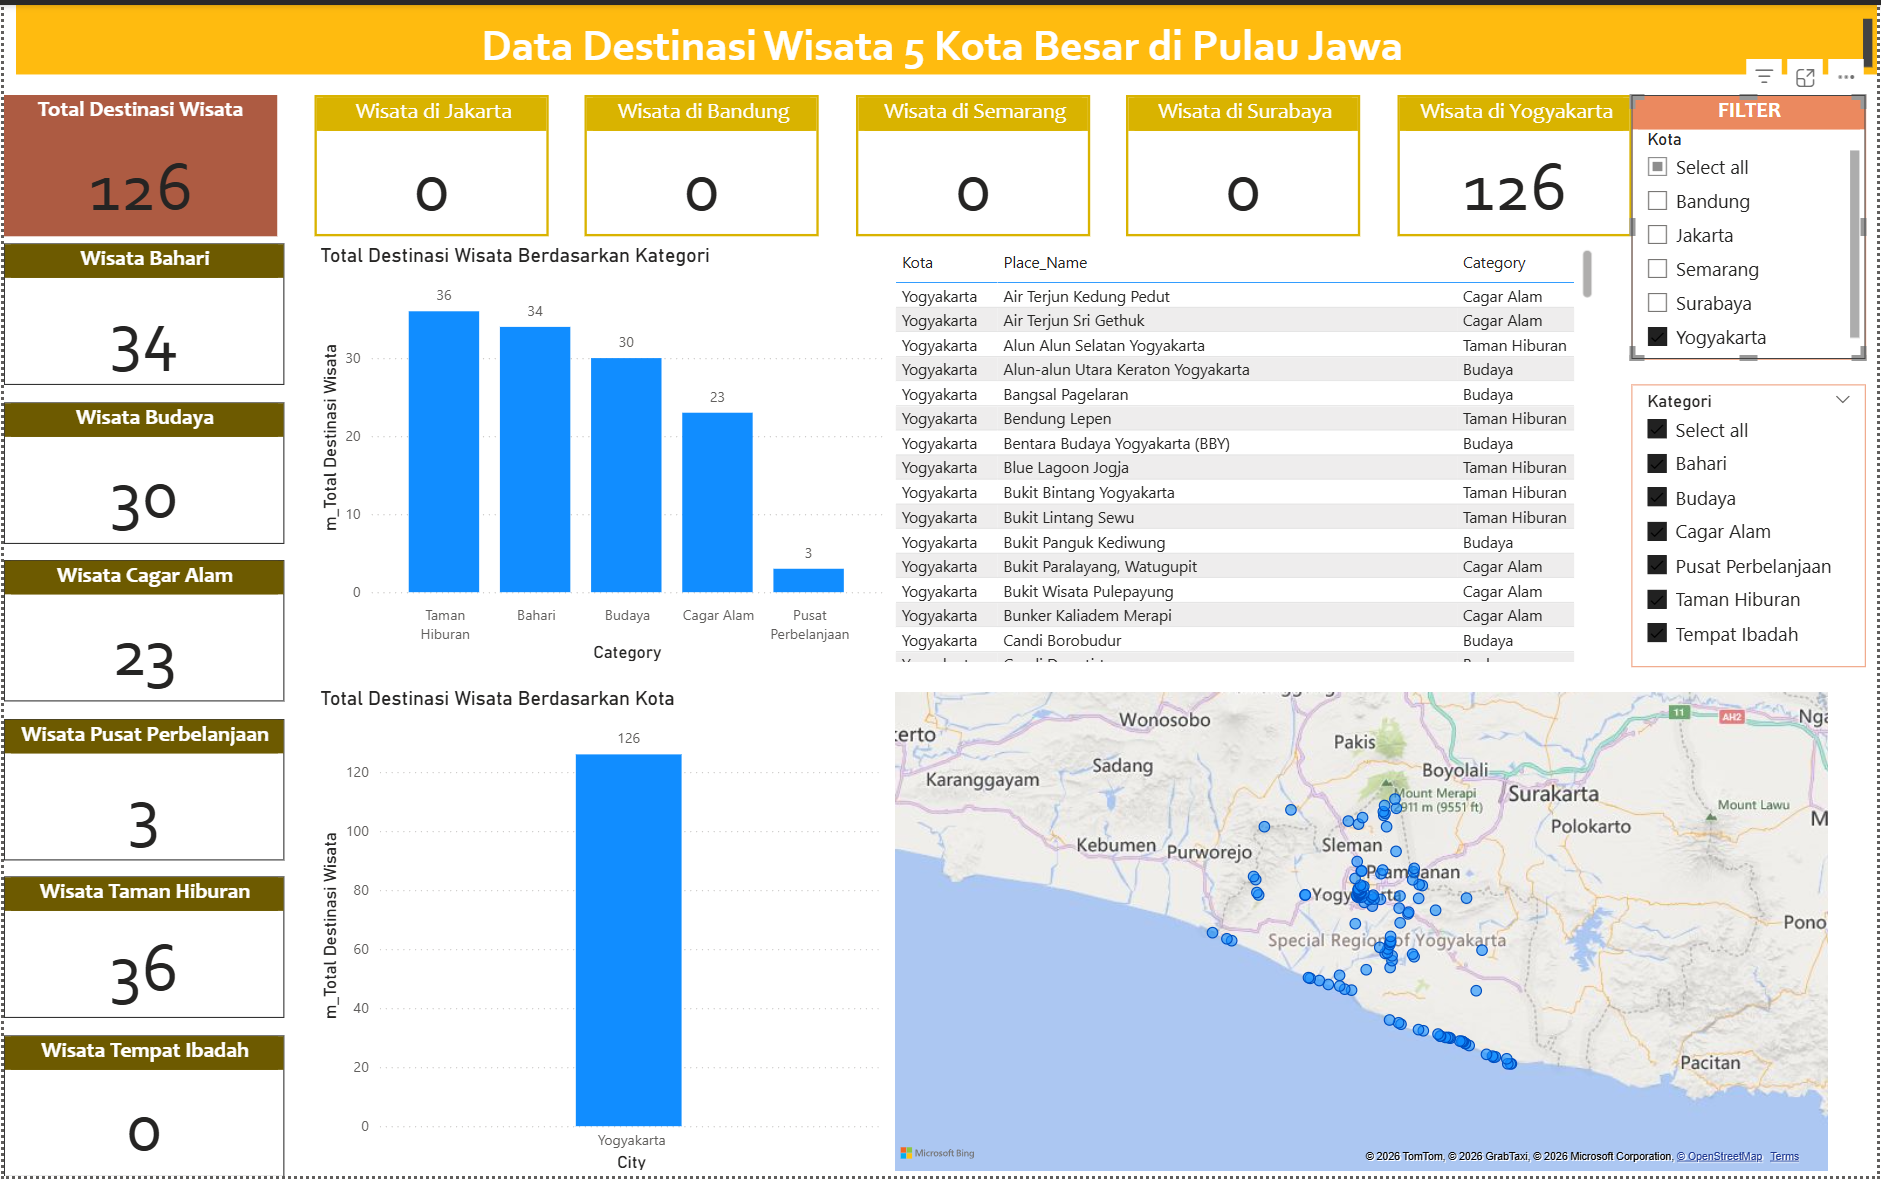

Layout of this report page (visuals, bound fields, positions):
{"tool":"powerbi","page":{"name":"Depan","canvas":[1600,1000],"ordinal":0},"visuals":[{"type":"shape","box":[10.1,0,1590.4,59.4],"z":0},{"type":"textbox","box":[10.1,5.8,1590.4,53.6],"z":1000},{"type":"slicer","fields":{"Values":["Kategori.Kategori"]},"box":[1390,324.3,200,241.4],"z":2000},{"type":"card","title":"Wisata di Jakarta","fields":{"Values":["tourism_with_id.Jumlah Wisata di Jakart"]},"box":[264.7,76.9,199.8,120.4],"z":3000},{"type":"card","title":"Wisata di Bandung","fields":{"Values":["tourism_with_id.Jumlah Wisata di Bandung"]},"box":[496,76.9,199.8,120.4],"z":4000},{"type":"card","title":"Wisata di Semarang","fields":{"Values":["tourism_with_id.Jumlah Wisata di Semarang"]},"box":[727.4,76.9,199.8,120.4],"z":5000},{"type":"card","title":"Wisata di Surabaya","fields":{"Values":["tourism_with_id.Jumlah Wisata di Surabaya"]},"box":[958.7,76.9,199.8,120.4],"z":6000},{"type":"card","title":"Wisata di Yogyakarta","fields":{"Values":["tourism_with_id.Jumlah Wisata di Yogyakarta"]},"box":[1190,76.9,199.8,120.4],"z":7000},{"type":"card","title":"Wisata Bahari","fields":{"Values":["tourism_with_id.Wisata Bahari"]},"box":[0,204,239.5,120.4],"z":8000},{"type":"card","title":"Wisata Budaya","fields":{"Values":["tourism_with_id.Wisata Budaya"]},"box":[0,339.2,239.5,120.4],"z":9000},{"type":"card","title":"Wisata Cagar Alam","fields":{"Values":["tourism_with_id.Wisata Cagar Alam"]},"box":[0,474.4,239.5,120.4],"z":10000},{"type":"card","title":"Wisata Pusat Perbelanjaan","fields":{"Values":["tourism_with_id.Wisata Pusat Perbelanjaan"]},"box":[0,609.6,239.5,120.4],"z":11000},{"type":"card","title":"Wisata Taman Hiburan","fields":{"Values":["tourism_with_id.Wisata Taman Hiburan"]},"box":[0,744.8,239.5,120.4],"z":12000},{"type":"card","title":"Wisata Tempat Ibadah","fields":{"Values":["tourism_with_id.Wisata Tempat Ibadah"]},"box":[0,879.6,239.5,120.4],"z":13000},{"type":"card","title":"Total Destinasi Wisata","fields":{"Values":["tourism_with_id.m_Total Destinasi Wisata"]},"box":[0,76.9,233.2,120.4],"z":14000},{"type":"slicer","title":"FILTER","fields":{"Values":["Kota.Kota"]},"box":[1390,77.1,200,225.7],"z":15000},{"type":"tableEx","fields":{"Values":["Kota.Kota","tourism_with_id.Place_Name","tourism_with_id.Category"]},"box":[755.7,204.3,605.7,361.4],"z":16000},{"type":"map","fields":{"Y":["tourism_with_id.Lat"],"X":["tourism_with_id.Long"]},"box":[755.7,581.4,807.1,418.6],"z":17000},{"type":"clusteredColumnChart","fields":{"Y":["tourism_with_id.m_Total Destinasi Wisata"],"Category":["tourism_with_id.Category"]},"box":[265.7,204.3,490,361.4],"z":18000},{"type":"clusteredColumnChart","fields":{"Y":["tourism_with_id.m_Total Destinasi Wisata"],"Category":["tourism_with_id.City"]},"box":[265.7,581.4,490,418.6],"z":19000}]}

Visuals, with their boxes on the page's 1600x1000 design canvas (x1, y1, x2, y2). These are canvas units, not pixel positions in the 1881x1181 screenshot, which may show the page scaled, cropped or inside an application window:
shape: 10/0/1600/59
textbox: 10/6/1600/59
slicer - Kategori.Kategori: 1390/324/1590/566
"Wisata di Jakarta" card: 265/77/464/197
"Wisata di Bandung" card: 496/77/696/197
"Wisata di Semarang" card: 727/77/927/197
"Wisata di Surabaya" card: 959/77/1158/197
"Wisata di Yogyakarta" card: 1190/77/1390/197
"Wisata Bahari" card: 0/204/240/324
"Wisata Budaya" card: 0/339/240/460
"Wisata Cagar Alam" card: 0/474/240/595
"Wisata Pusat Perbelanjaan" card: 0/610/240/730
"Wisata Taman Hiburan" card: 0/745/240/865
"Wisata Tempat Ibadah" card: 0/880/240/1000
"Total Destinasi Wisata" card: 0/77/233/197
"FILTER" slicer: 1390/77/1590/303
tableEx - Kota.Kota x tourism_with_id.Place_Name: 756/204/1361/566
map - tourism_with_id.Lat x tourism_with_id.Long: 756/581/1563/1000
clusteredColumnChart - tourism_with_id.m_Total Destinasi Wisata x tourism_with_id.Category: 266/204/756/566
clusteredColumnChart - tourism_with_id.m_Total Destinasi Wisata x tourism_with_id.City: 266/581/756/1000
